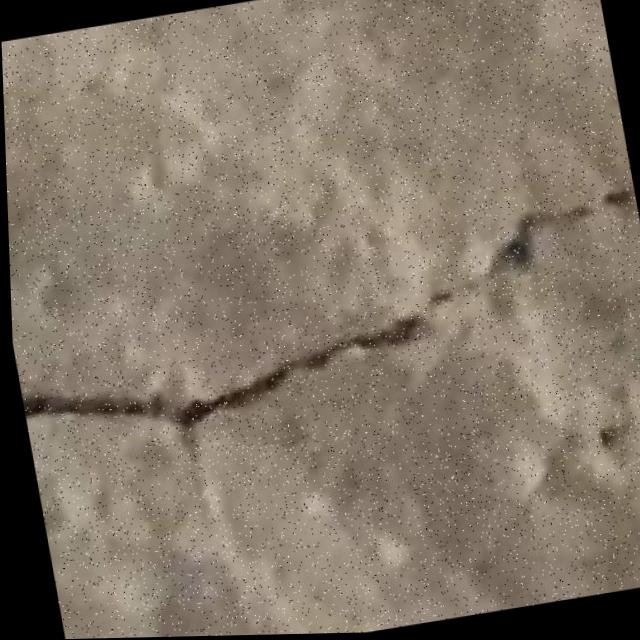Crack: (5, 172, 640, 463)
